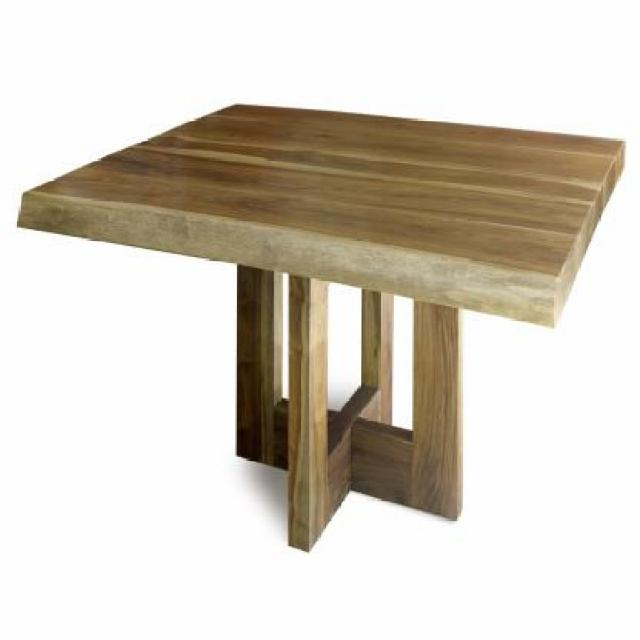table: (20, 101, 623, 548)
